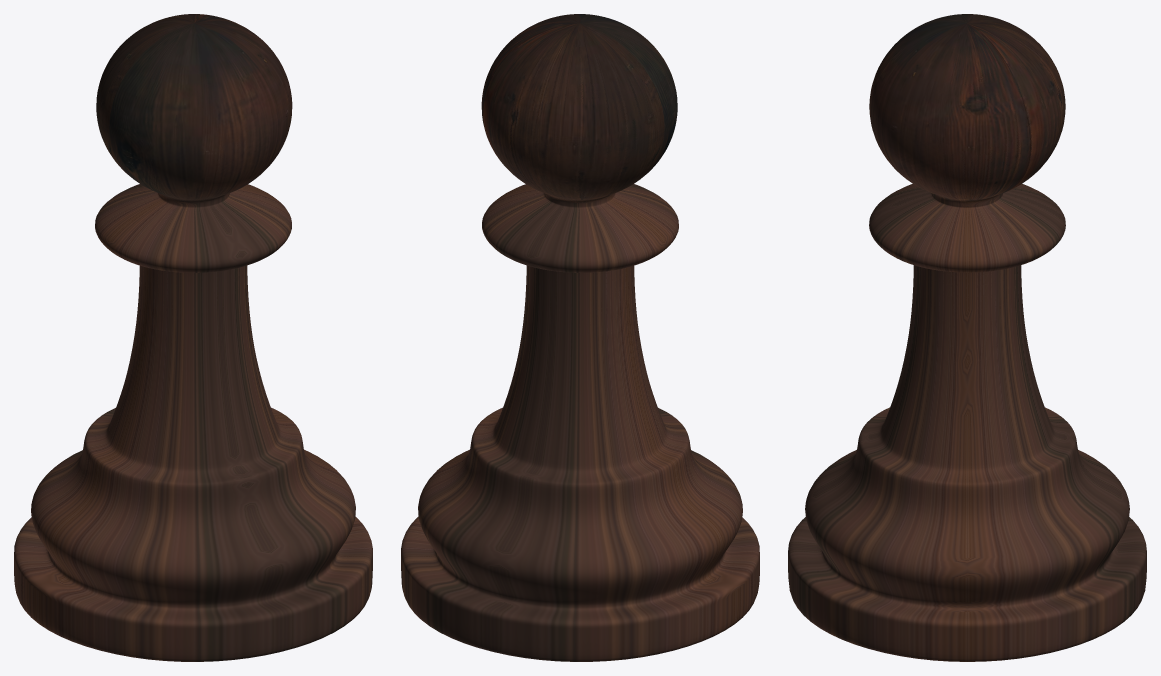
The model's file is pawn.glb.
3 renders of one model, left to right at view 1: azimuth 30°, elevation 25°; view 2: azimuth 150°, elevation 25°; view 3: azimuth 270°, elevation 25°, orthographic.
Parts seen in each view (by area): view 1: Sphere.002_Material.001_0; view 2: Sphere.002_Material.001_0; view 3: Sphere.002_Material.001_0.
Part boxes in pixels (x1=…): Sphere.002_Material.001_0: x1=14, y1=14, x2=372, y2=661; Sphere.002_Material.001_0: x1=401, y1=14, x2=759, y2=661; Sphere.002_Material.001_0: x1=788, y1=14, x2=1146, y2=661.
Size of the model in its own units: 3.47 by 6 by 3.45.
1 material, 1 textured.
